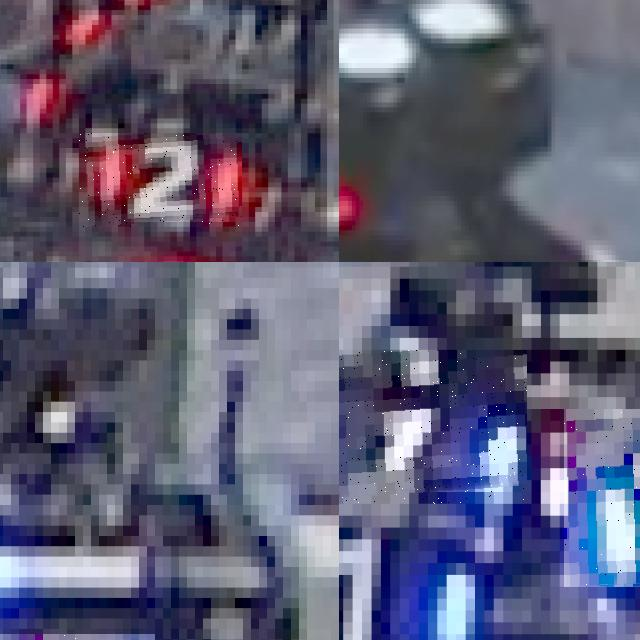B1: (339, 350, 526, 504), (339, 503, 479, 640), (564, 409, 640, 587)
R2: (79, 133, 242, 227)
